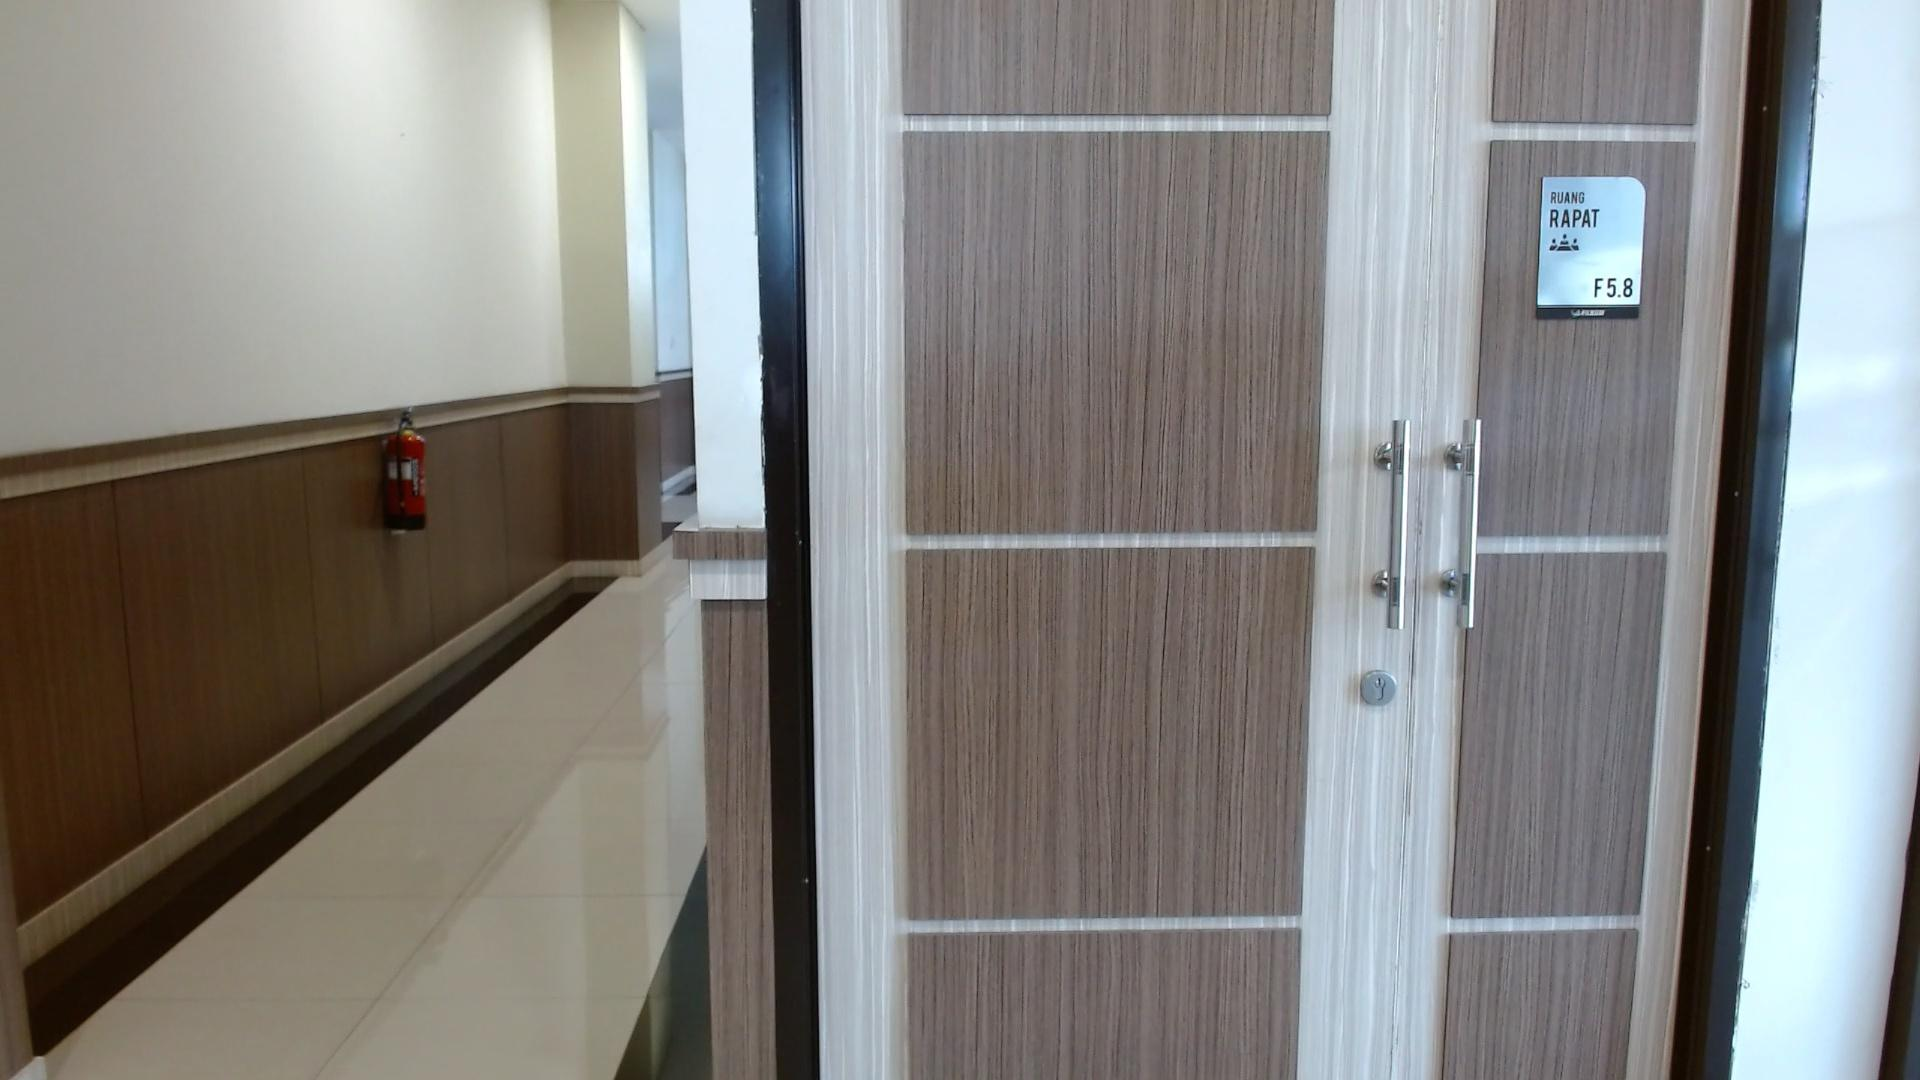plate: (1536, 177, 1647, 320)
